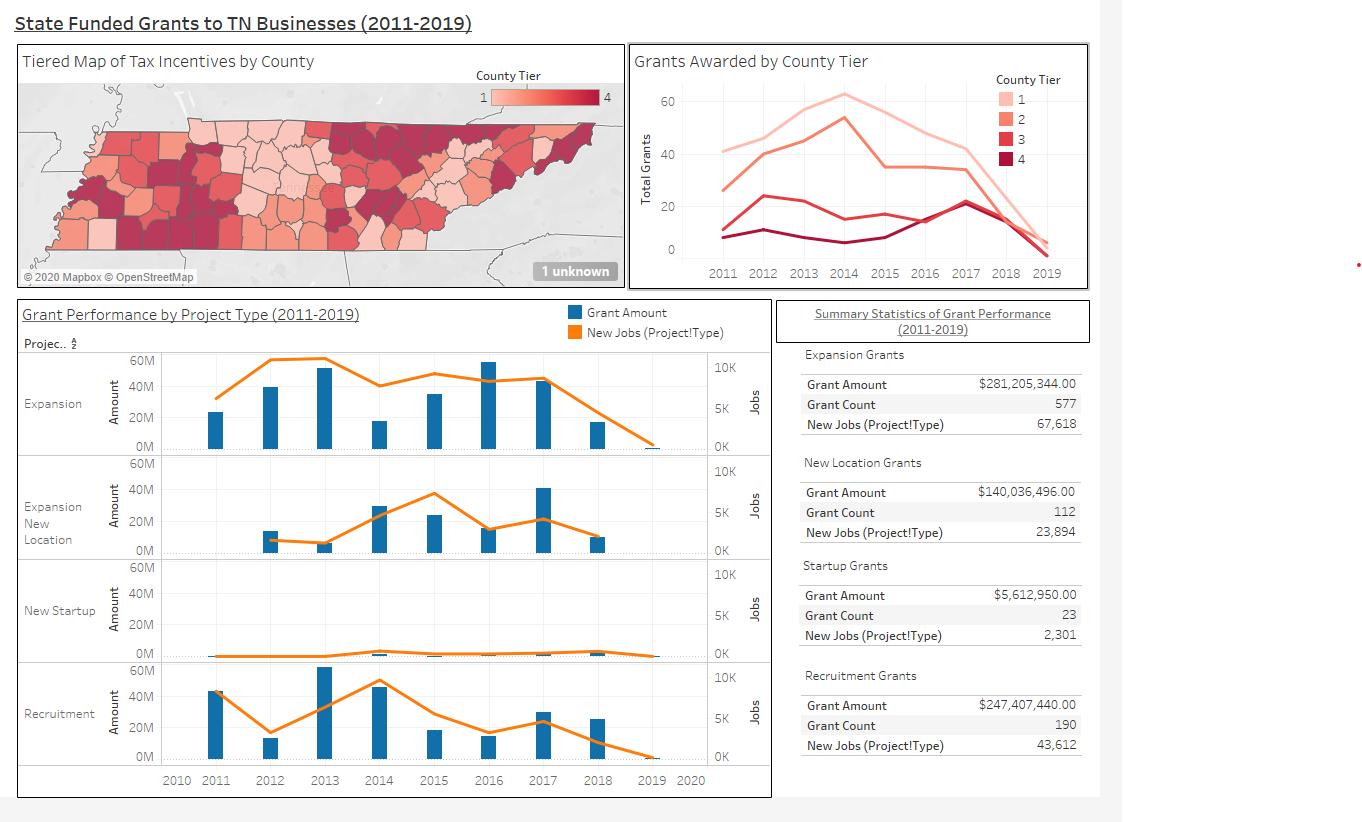

The page's visual inventory and layout, read from the dashboard file:
{"tool":"tableau","page":{"name":"Dashboard 1","canvas":[1100,800],"ordinal":0},"visuals":[{"type":"worksheet","box":[0,0,1100,800]},{"type":"worksheet","param":"vert","box":[8,8,1084,784]},{"type":"worksheet","box":[8,8,1084,34]},{"type":"worksheet","box":[8,42,1084,750]},{"type":"worksheet","title":"map_county_tier","mark":"Multipolygon","box":[12,47,613,244]},{"type":"worksheet","title":"grants by tier","mark":"Automatic","rows":["count_grants"],"cols":["Year"],"box":[629,47,459,245]},{"type":"worksheet","title":"map_county_tier","mark":"Multipolygon","param":"[federated.179v3cz1hi1dhs1e201l707qt2mv].[attr:county_tier:qk]","box":[479,66,140,76]},{"type":"worksheet","title":"grants by tier","mark":"Automatic","rows":["count_grants"],"cols":["Year"],"param":"[federated.179v3cz1hi1dhs1e201l707qt2mv].[none:county_tier (county!tier):nk]","box":[996,74,77,108]},{"type":"worksheet","title":"project_type","mark":"Automatic","rows":["project_type (project!type)","grant_amount","new_jobs (project!type)"],"cols":["year (project!type)"],"param":"[federated.179v3cz1hi1dhs1e201l707qt2mv].[:Measure Names]","box":[565,287,219,59]},{"type":"worksheet","title":"project_type","mark":"Automatic","rows":["project_type (project!type)","grant_amount","new_jobs (project!type)"],"cols":["year (project!type)"],"box":[12,302,753,477]},{"type":"worksheet","box":[772,303,314,32]},{"type":"worksheet","title":"Expansion","mark":"Automatic","box":[786,341,292,106]},{"type":"worksheet","title":"New Location","mark":"Automatic","box":[787,450,292,98]},{"type":"worksheet","title":"Startup","mark":"Automatic","box":[787,551,292,97]},{"type":"worksheet","title":"Recruitment","mark":"Automatic","box":[787,653,291,127]}]}

Visuals, with their boxes on the page's 1100x800 design canvas (x1, y1, x2, y2). These are canvas units, not pixel positions in the 1362x822 screenshot, which may show the page scaled, cropped or inside an application window:
worksheet: {"left": 0, "top": 0, "right": 1100, "bottom": 800}
worksheet: {"left": 8, "top": 8, "right": 1092, "bottom": 792}
worksheet: {"left": 8, "top": 8, "right": 1092, "bottom": 42}
worksheet: {"left": 8, "top": 42, "right": 1092, "bottom": 792}
"map_county_tier" worksheet (Multipolygon marks): {"left": 12, "top": 47, "right": 625, "bottom": 291}
"grants by tier" worksheet: {"left": 629, "top": 47, "right": 1088, "bottom": 292}
"map_county_tier" worksheet (Multipolygon marks): {"left": 479, "top": 66, "right": 619, "bottom": 142}
"grants by tier" worksheet: {"left": 996, "top": 74, "right": 1073, "bottom": 182}
"project_type" worksheet: {"left": 565, "top": 287, "right": 784, "bottom": 346}
"project_type" worksheet: {"left": 12, "top": 302, "right": 765, "bottom": 779}
worksheet: {"left": 772, "top": 303, "right": 1086, "bottom": 335}
"Expansion" worksheet: {"left": 786, "top": 341, "right": 1078, "bottom": 447}
"New Location" worksheet: {"left": 787, "top": 450, "right": 1079, "bottom": 548}
"Startup" worksheet: {"left": 787, "top": 551, "right": 1079, "bottom": 648}
"Recruitment" worksheet: {"left": 787, "top": 653, "right": 1078, "bottom": 780}
